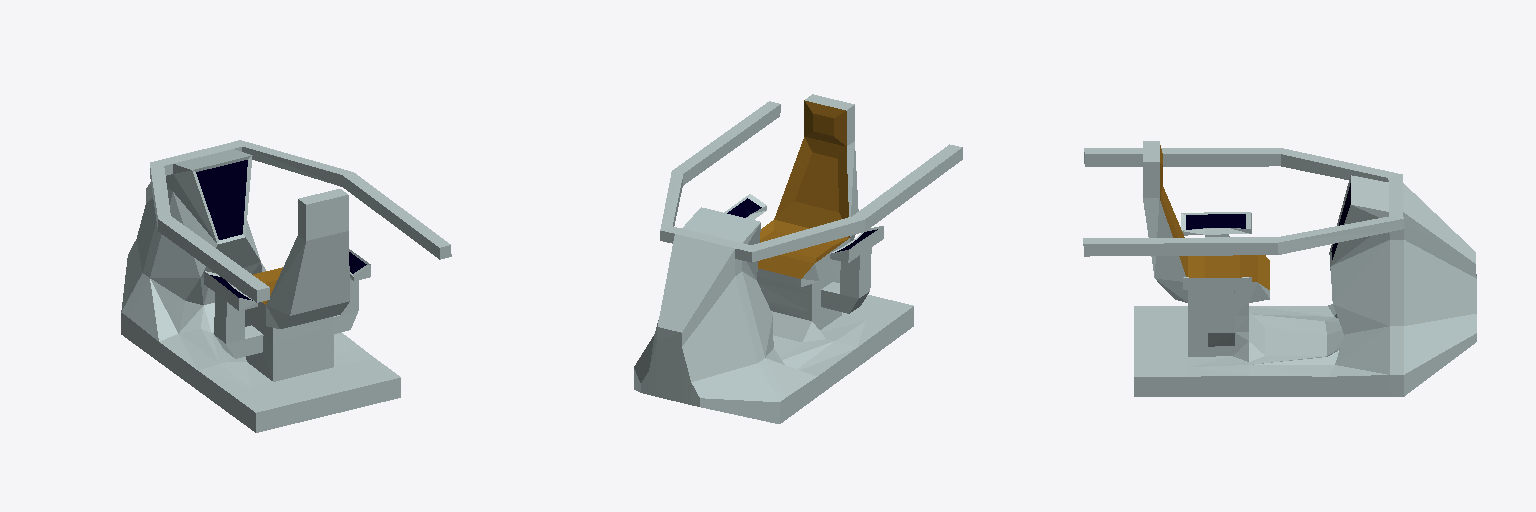
The model's file is chair.obj.
3 renders of one model, left to right at view 1: azimuth 30°, elevation 25°; view 2: azimuth 150°, elevation 25°; view 3: azimuth 270°, elevation 25°, orthographic.
Visible parts, largest first — view 1: Cube_Chair; view 2: Cube_Chair; view 3: Cube_Chair.
Boxes of the visible parts, x1,y1,x2,y2 form: Cube_Chair: [121, 140, 451, 432]; Cube_Chair: [634, 94, 962, 423]; Cube_Chair: [1083, 141, 1476, 396].
Bounding box in the file's own units: 2.68 × 2.78 × 4.68.